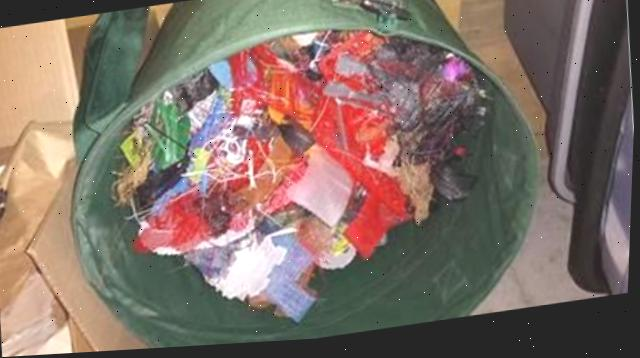Garbage: (114, 34, 487, 325)
Plastic: (116, 34, 489, 325)
